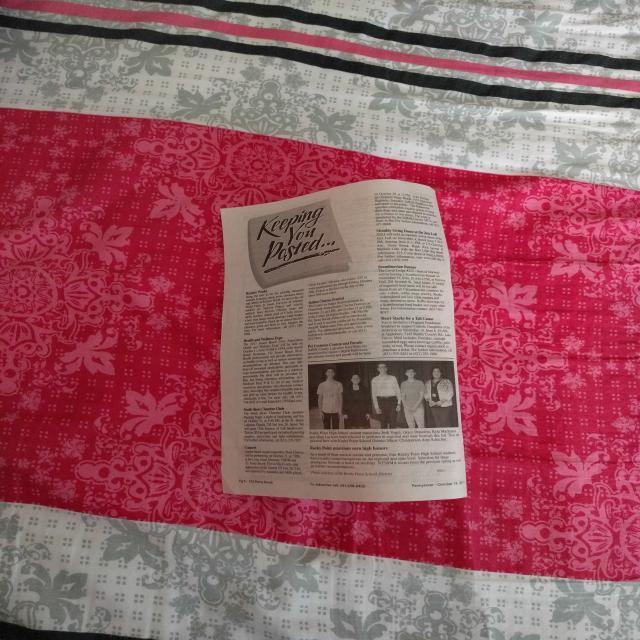document: (222, 180, 467, 501)
